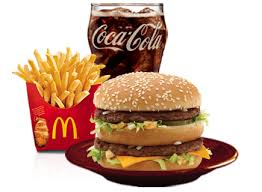hamburger: (89, 70, 211, 176)
